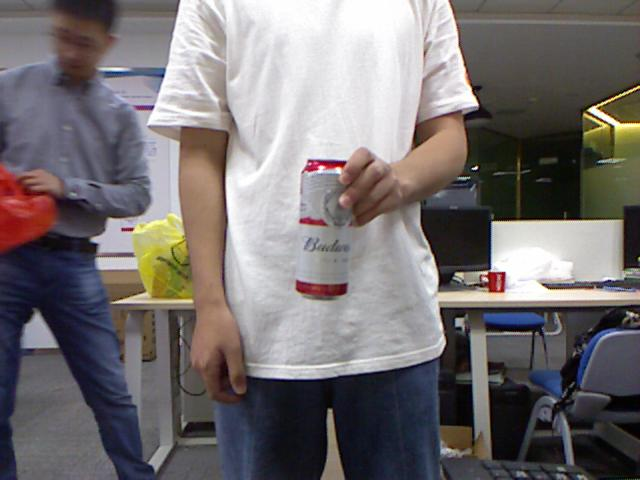metal: (295, 160, 351, 299)
